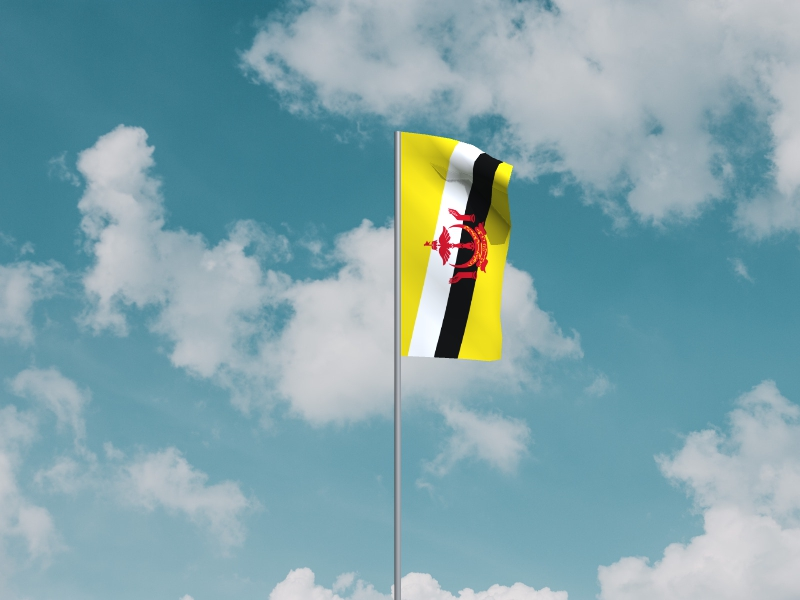bn: (402, 133, 514, 363)
